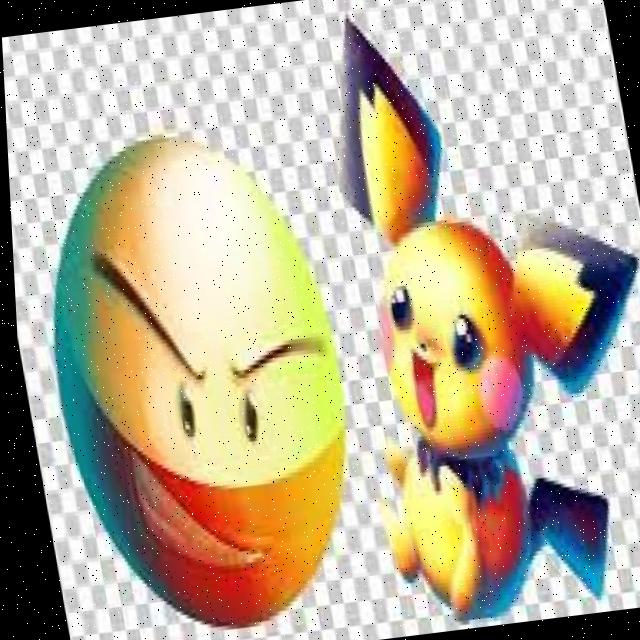pichu: (310, 74, 627, 616)
